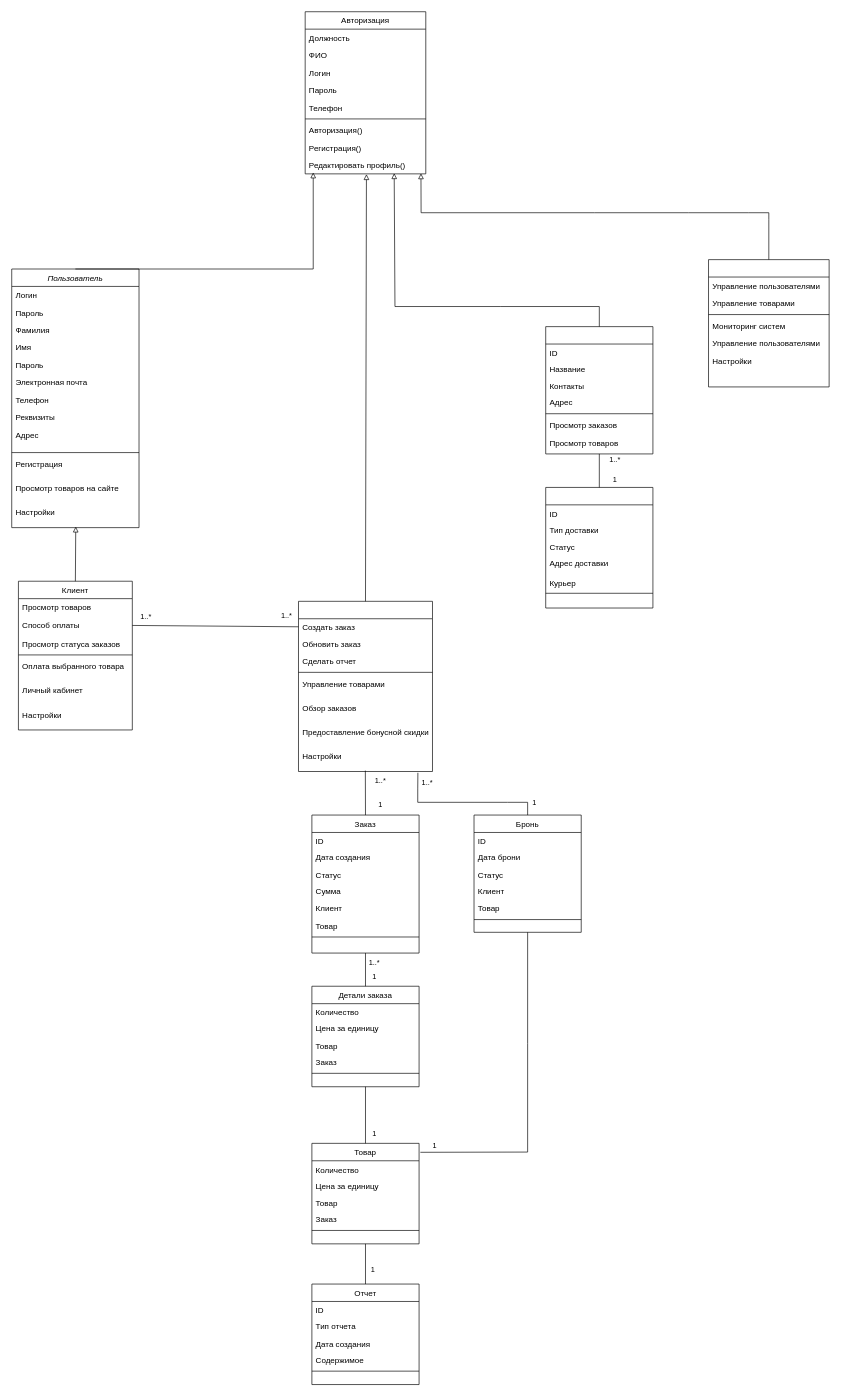
This 841x1396 diagram has some shape labels left out. The box of each missing label's shape, as (x1, y1, x2, y2) in pixels:
Администратор: (708, 259, 829, 387)
Доставка: (545, 487, 653, 608)
Менеджер: (298, 601, 432, 772)
Поставщик: (545, 326, 653, 454)
